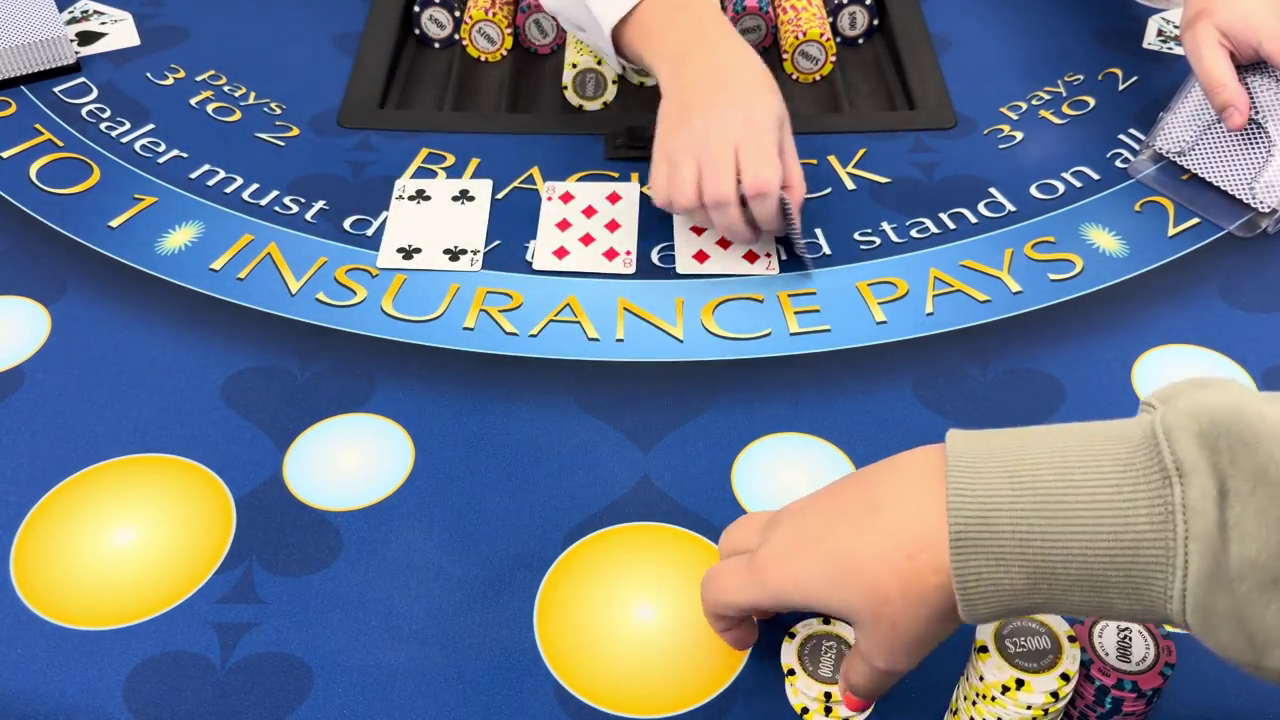4C: (467, 246, 483, 270), (393, 180, 407, 204)
7D: (758, 243, 778, 275)
8D: (618, 246, 635, 271), (542, 178, 557, 204)
